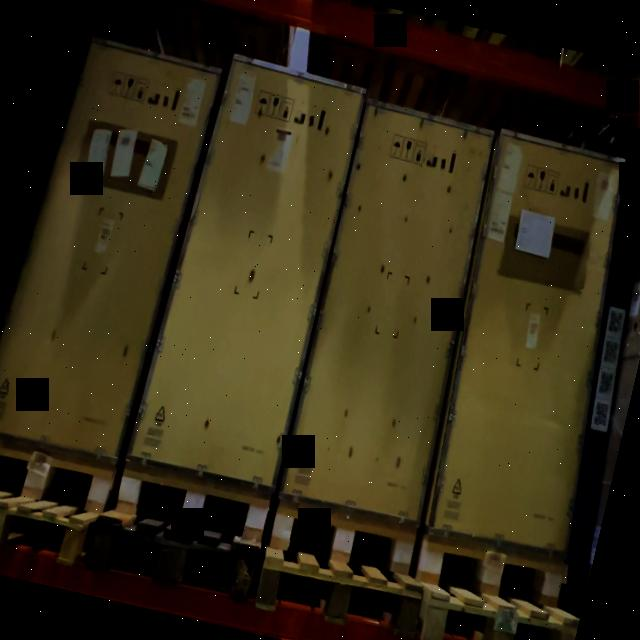box: (130, 50, 363, 487), (0, 39, 224, 462), (279, 98, 494, 525), (428, 131, 628, 560)
